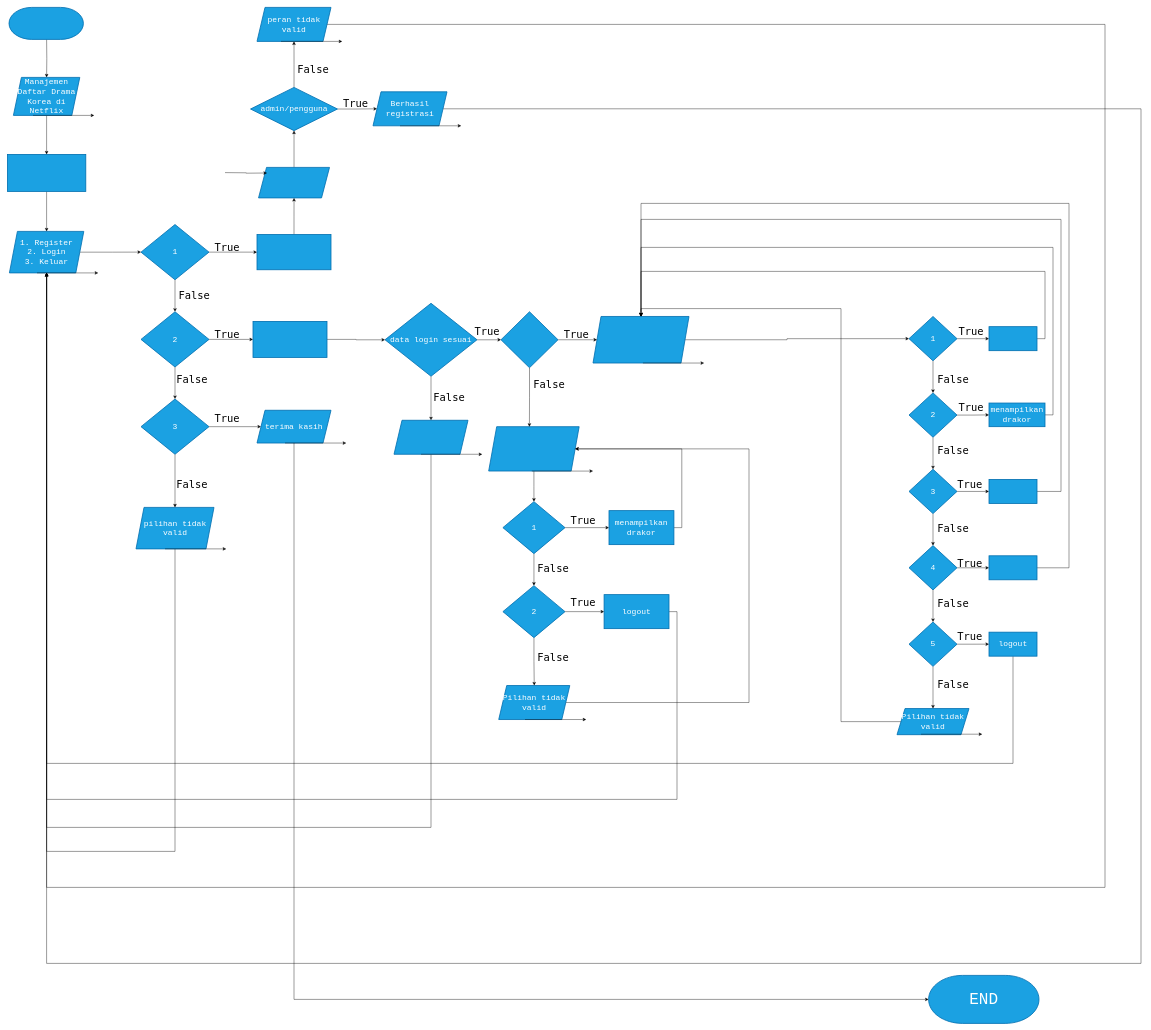
The diagram is 1151 pixels wide and 1030 high, and some of its shapes have lost their labels. Here are the shapes that lost their labels. From the top down, the box of each, then its label:
(8, 7, 84, 40): START
(7, 154, 86, 192): buat dictionary untuk daftar pengguna dan daftar drakor
(258, 167, 330, 198): username: password: peran:
(256, 234, 331, 270): Register
(252, 321, 327, 358): Login
(500, 311, 558, 368): admin
(592, 316, 689, 363): 1. Tambah Drakor 2. Lihat Drakor 3. Update Drakor 4. Hapus Drakor 5. Keluar
(988, 326, 1037, 351): menambah drakor
(393, 420, 468, 454): gagal login, periksa lagi
(488, 426, 579, 471): Menu Pengguna 1. Lihat Drakor 2. Keluar
(988, 479, 1037, 504): mengupdate drakor
(988, 555, 1037, 580): menghapus drakor
